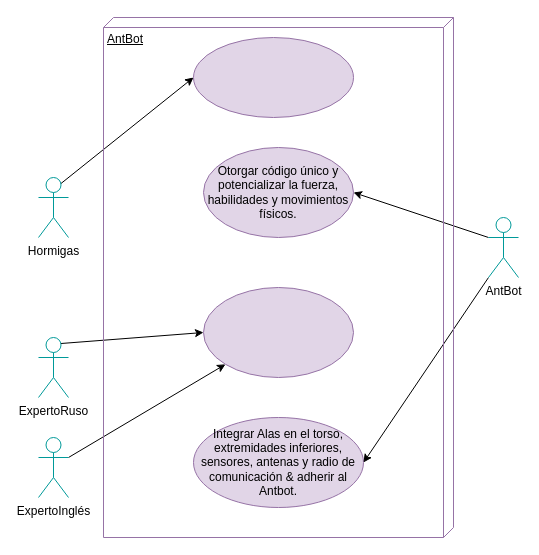
Some shapes in this 539 by 555 pixel diagram are drawn without their labels. The shapes that lost their labels are listed below. From the top down, each one's centre as x and y in pixels, then its label:
(273,77): Usar Antbot.
(278,332): Transferir fonética al AntBot.
